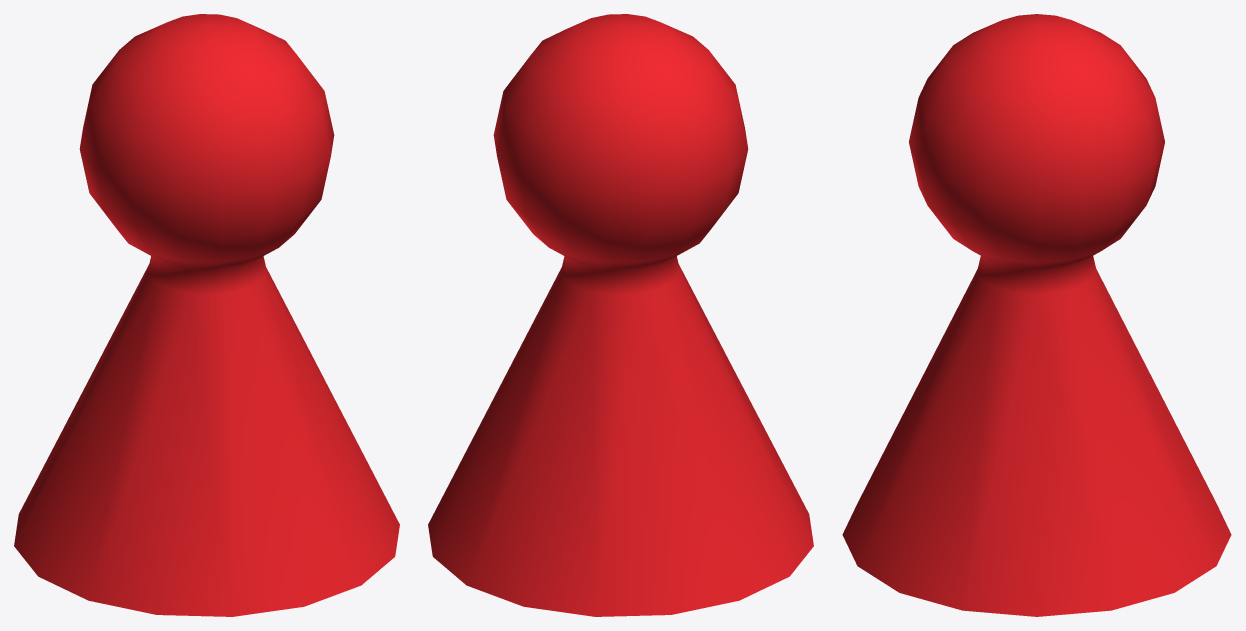
The model's file is ficha.obj.
The picture shows the model from 3 angles, left to right: view 1: azimuth 30°, elevation 25°; view 2: azimuth 150°, elevation 25°; view 3: azimuth 270°, elevation 25°; orthographic projection.
Visible parts, largest first — view 1: ficha_Cube.005; view 2: ficha_Cube.005; view 3: ficha_Cube.005.
Boxes of the visible parts, x1,y1,x2,y2 form: ficha_Cube.005: (14,14,399,616); ficha_Cube.005: (428,14,813,616); ficha_Cube.005: (842,14,1231,616).
Bounding box in the file's own units: 0.0659 × 0.0951 × 0.0659.
